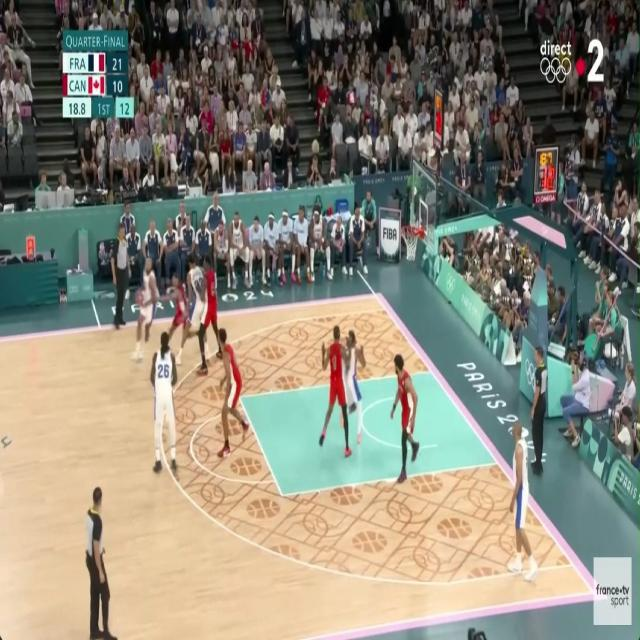ball_handler: (130, 258, 158, 360)
